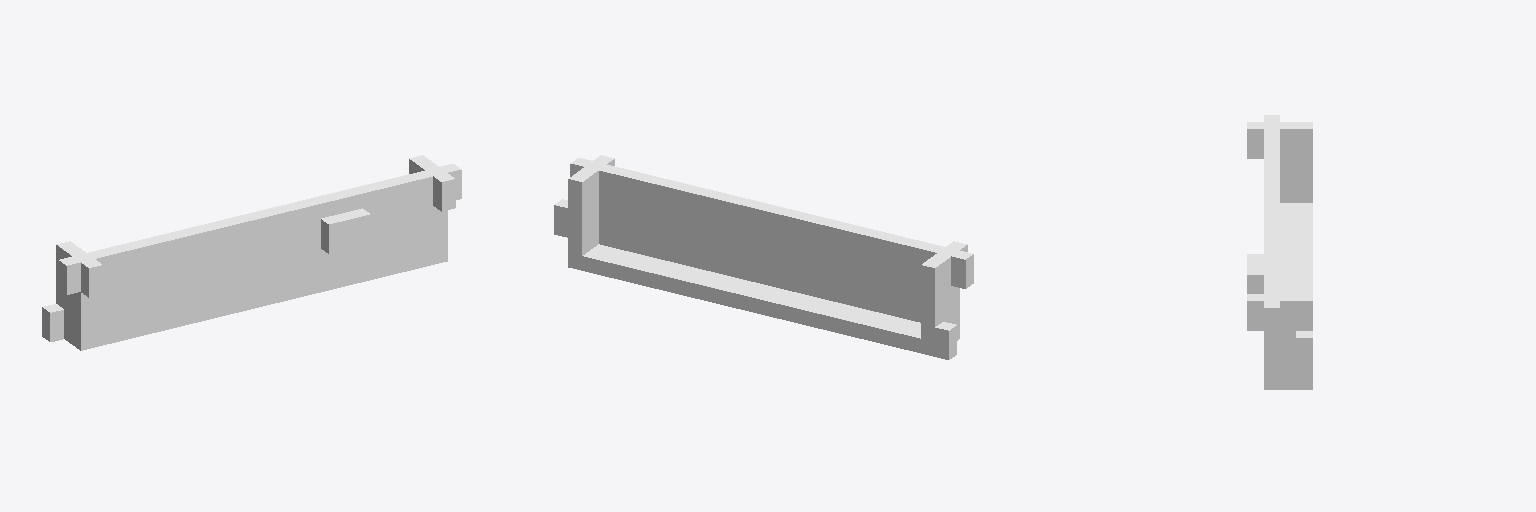
Rendered from SmallBuilding01-5.obj.
3 views of the same model, side by side, from view 1: azimuth 30°, elevation 25°; view 2: azimuth 150°, elevation 25°; view 3: azimuth 270°, elevation 25° (orthographic).
Visible parts, largest first — view 1: object 1; view 2: object 1; view 3: object 1.
Boxes of the visible parts, box(x1,y1,x2,y2) form: object 1: box(42, 155, 461, 350); object 1: box(554, 155, 973, 359); object 1: box(1247, 115, 1312, 389).
Size of the model in its own units: 2.8 by 0.6 by 0.4.